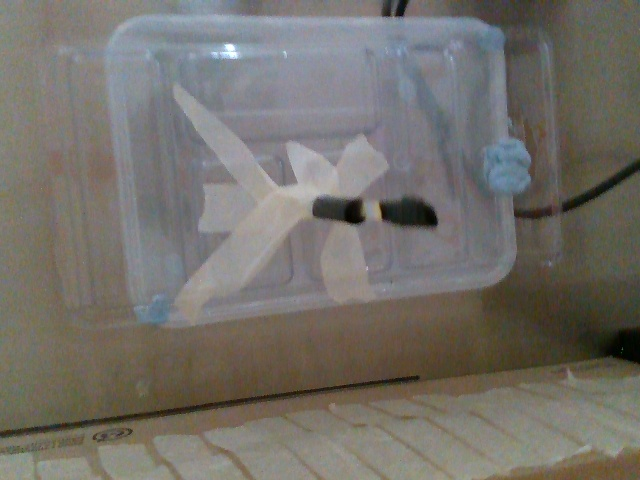test_strip: (360, 194, 435, 226)
